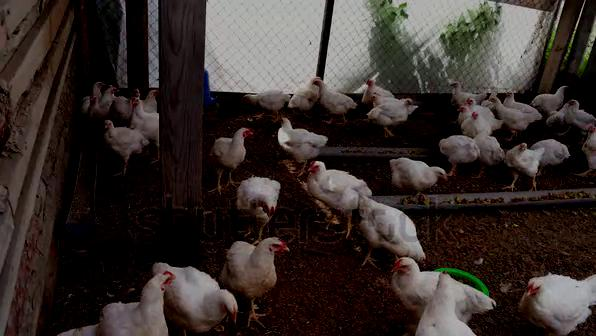Pollos: (391, 256, 490, 324), (97, 270, 173, 336), (357, 193, 428, 261), (521, 274, 596, 334), (221, 231, 289, 293), (174, 264, 242, 322), (306, 161, 369, 218), (272, 114, 324, 160), (233, 174, 280, 224), (365, 93, 417, 131), (213, 126, 255, 173), (102, 119, 148, 160), (389, 157, 445, 189), (308, 79, 355, 116), (507, 141, 547, 181), (435, 134, 479, 168), (489, 96, 531, 129), (559, 98, 596, 135), (242, 88, 291, 113), (129, 95, 159, 135), (533, 83, 570, 113), (84, 94, 115, 124), (462, 113, 493, 138), (448, 80, 483, 102), (583, 124, 596, 181)
